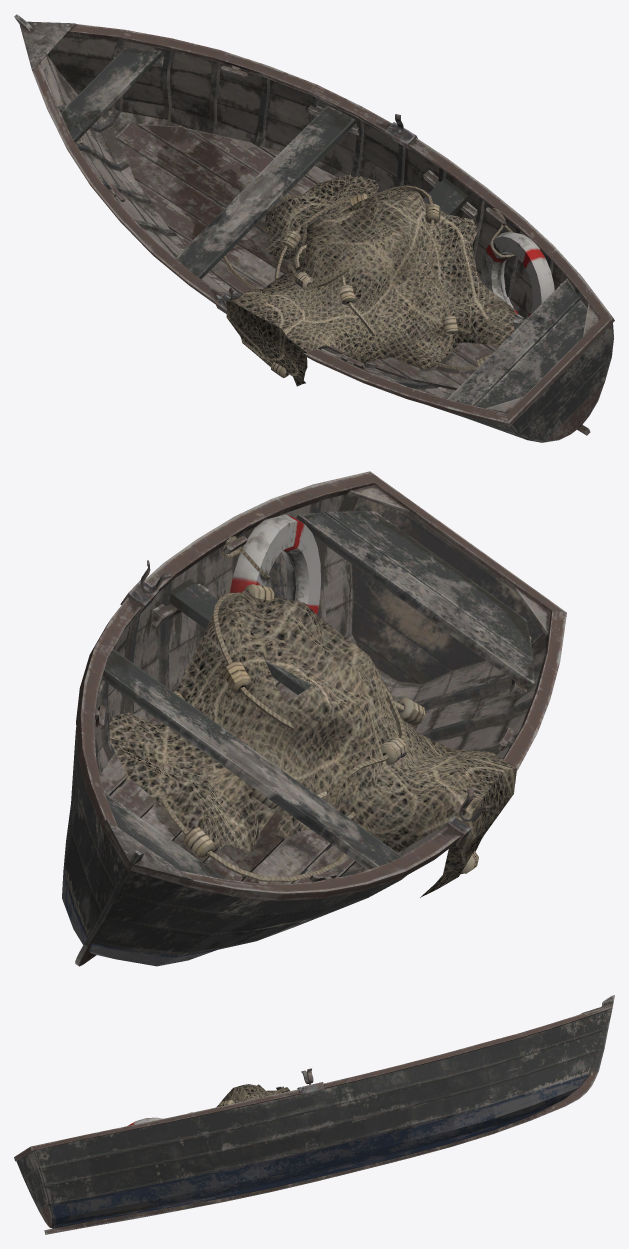
File: ItemSpot.fbx
3 views of the same model, one above another, from view 1: azimuth 30°, elevation 25°; view 2: azimuth 150°, elevation 25°; view 3: azimuth 270°, elevation 25° (orthographic). The views are drawn at different scales.
Visible parts, largest first — view 1: ItemBox_Boat; view 2: ItemBox_Boat; view 3: ItemBox_Boat.
Boxes of the visible parts, x1,y1,x2,y2 form: ItemBox_Boat: (14, 14, 614, 442); ItemBox_Boat: (62, 471, 566, 966); ItemBox_Boat: (14, 995, 614, 1234).
Size of the model in its own units: 2.58 by 1.98 by 6.7.
Materials: 1 (1 with a texture image).
